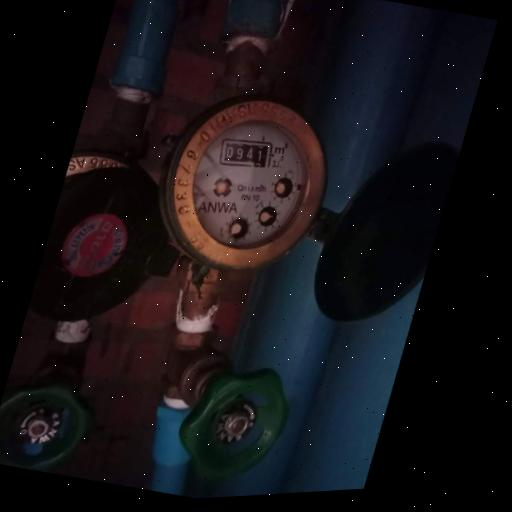0: (222, 141, 239, 163)
1: (250, 143, 270, 169)
4: (242, 142, 260, 164)
9: (231, 142, 249, 164)
border_water_meter_number: (214, 129, 280, 176)
